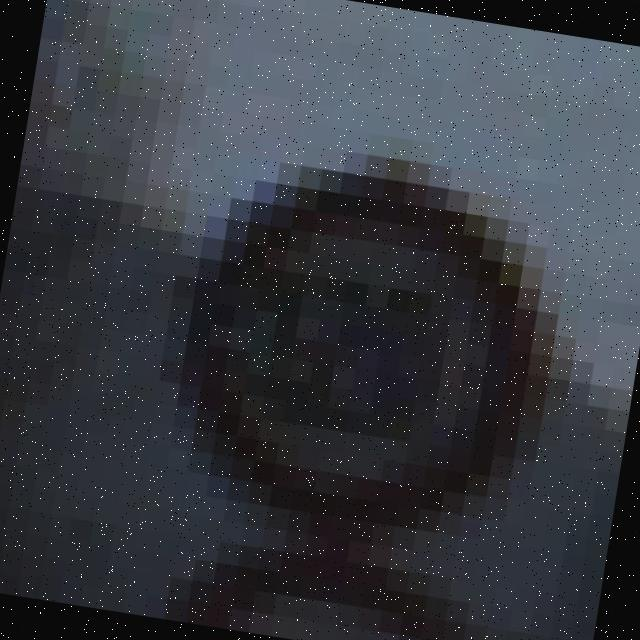Ograniczenie predkosci do 120: (173, 156, 555, 548)
